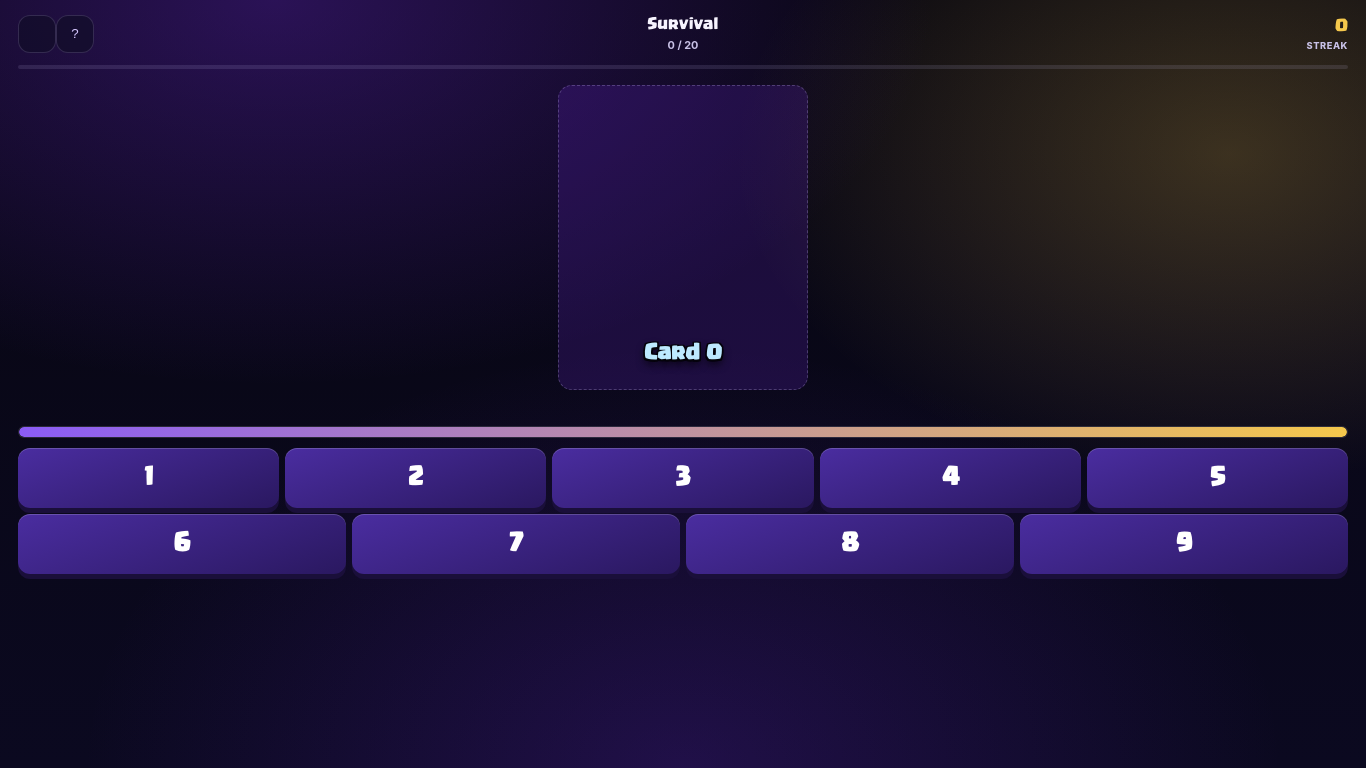
Test: Survival gameplay › a correct cost past the closed window is the death, matching the server
The width and height of the screenshot is (1366, 768).
Click the button "2" at [416, 478], box [285,448,546,508]
Wait 230 ms
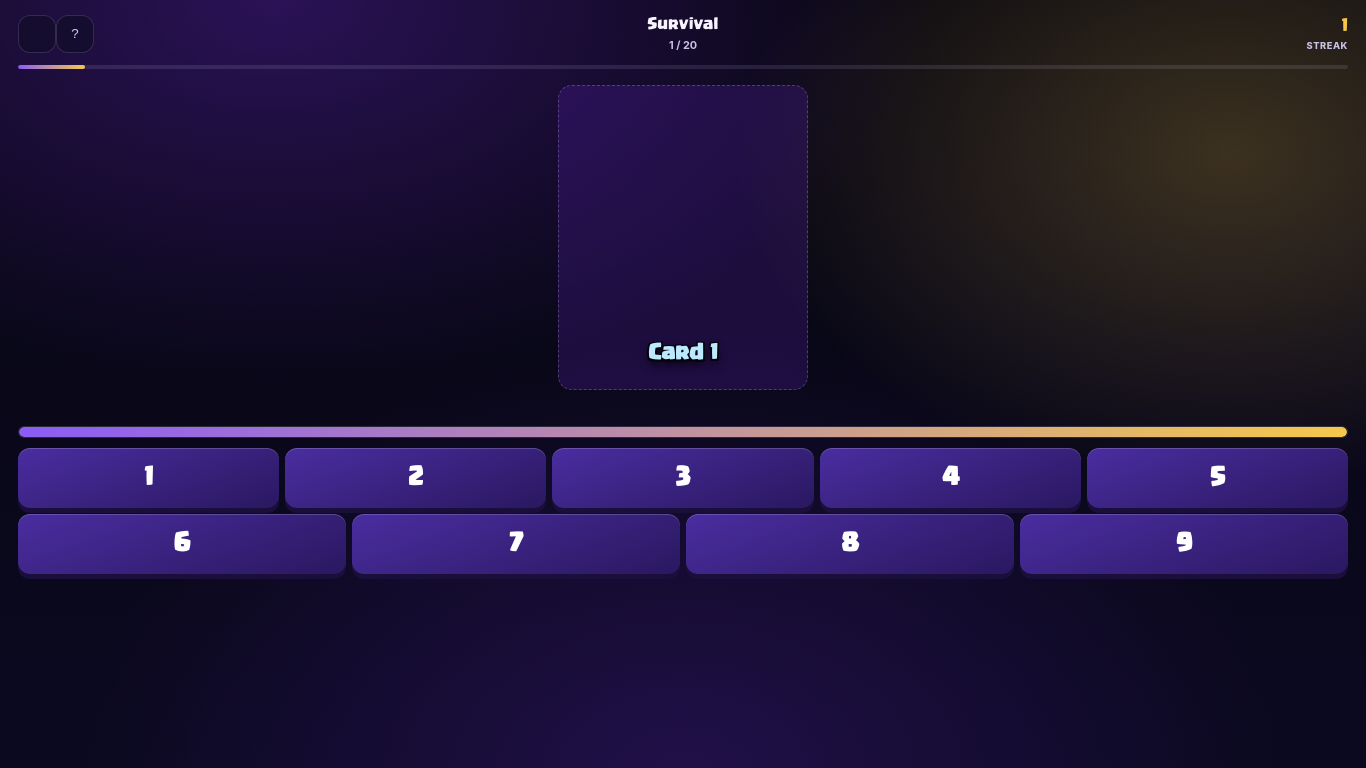
Click the button "3" at [683, 478], box [552,448,814,508]
Wait 1100 ms
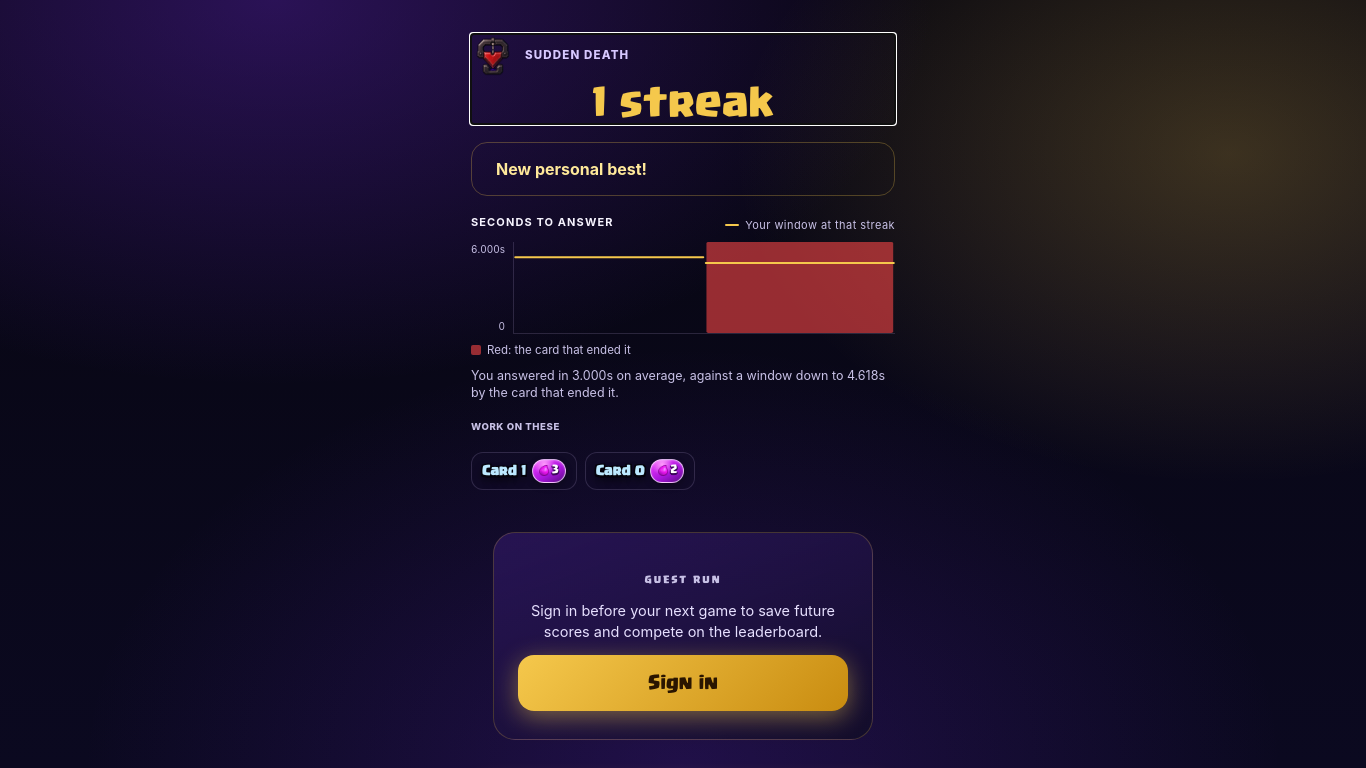
expect the text "1 streak" is shown: met, box [592,86,774,124]
expect the text "Sudden death" is shown: met, box [471,34,629,78]
